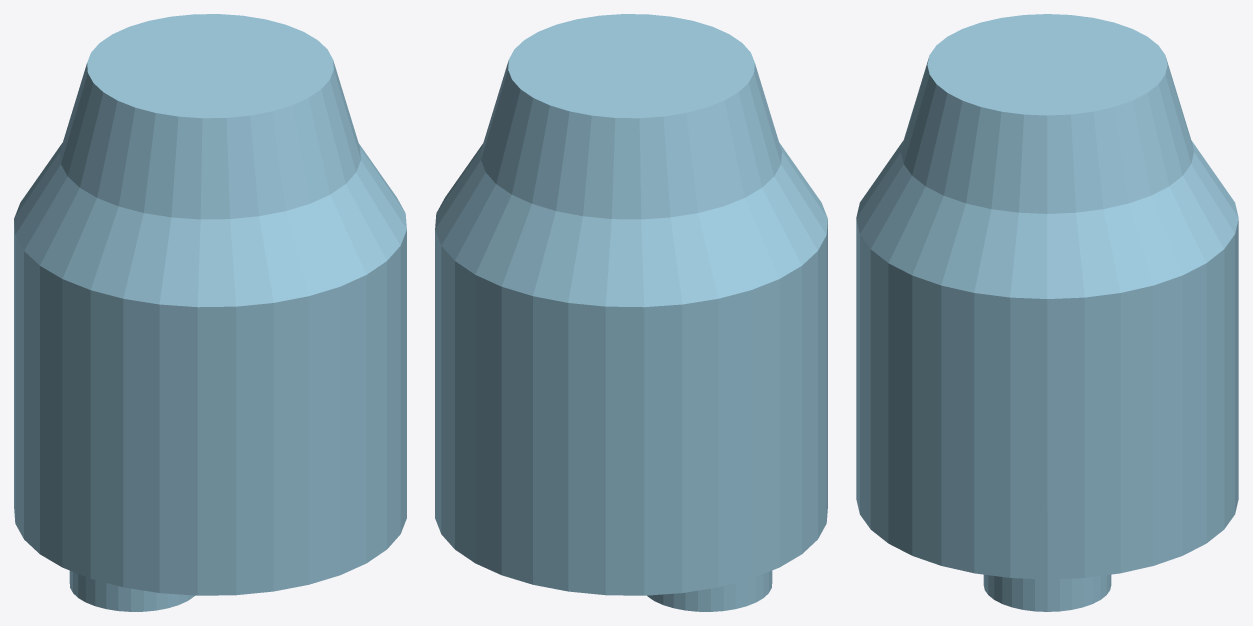
The model's file is SpaceShip.fbx.
3 renders of one model, left to right at view 1: azimuth 30°, elevation 25°; view 2: azimuth 150°, elevation 25°; view 3: azimuth 270°, elevation 25°, orthographic. The views are drawn at different scales.
Parts seen in each view (by area): view 1: SpaceShip; view 2: SpaceShip; view 3: SpaceShip.
Boxes of the visible parts, x1,y1,x2,y2 form: SpaceShip: (14, 14, 406, 611); SpaceShip: (435, 14, 827, 611); SpaceShip: (856, 14, 1238, 611).
Bounding box in the file's own units: 74.9 × 105 × 74.9.
